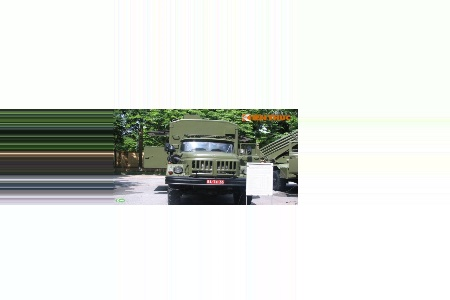plate: (206, 175, 225, 185)
